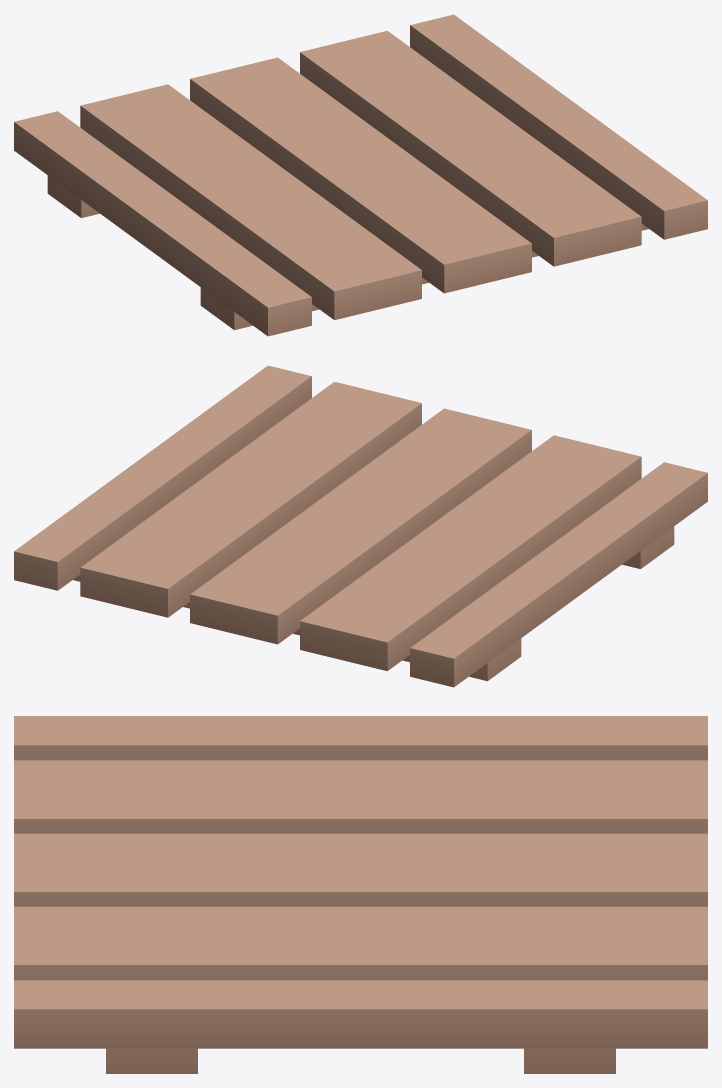
Rendered from floor.glb.
3 views of the same model, one above another, from view 1: azimuth 30°, elevation 25°; view 2: azimuth 150°, elevation 25°; view 3: azimuth 270°, elevation 25° (orthographic). The views are drawn at different scales.
Visible parts, largest first — view 1: floor; view 2: floor; view 3: floor.
Boxes of the visible parts, left/top/right/bottom form: floor: left=14, top=14, right=707, bottom=336; floor: left=14, top=365, right=707, bottom=687; floor: left=14, top=716, right=707, bottom=1073.
Size of the model in its own units: 0.5 by 0.0512 by 0.5.
